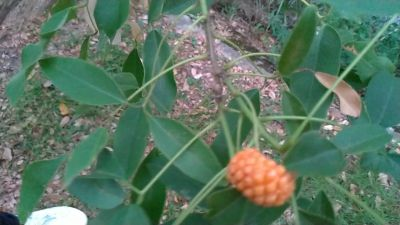eggs: (223, 147, 290, 206)
